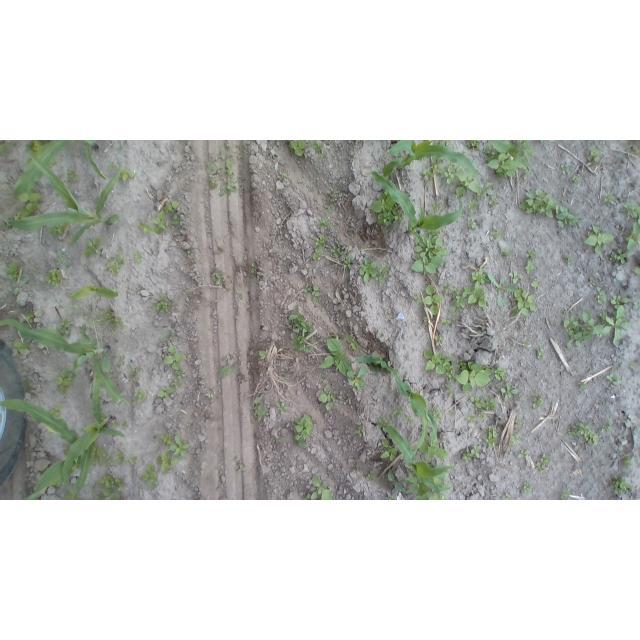Maize: (0, 319, 124, 423), (2, 150, 123, 246), (1, 398, 96, 499), (63, 379, 126, 498), (355, 357, 437, 440), (370, 170, 464, 240), (1, 141, 108, 200), (385, 425, 455, 492), (383, 141, 478, 185), (68, 287, 119, 301), (25, 488, 49, 501)
Weeds: (562, 306, 631, 349), (455, 358, 508, 390), (487, 140, 534, 176), (206, 146, 239, 194), (412, 230, 448, 274), (289, 304, 317, 354), (317, 338, 352, 377), (517, 186, 553, 219), (488, 273, 517, 308), (443, 282, 466, 324), (373, 195, 404, 226), (586, 225, 614, 255), (424, 349, 453, 377), (292, 412, 314, 448), (96, 309, 123, 336), (455, 172, 482, 199), (17, 193, 44, 219), (553, 203, 579, 230), (567, 423, 597, 445), (512, 289, 536, 315), (423, 285, 443, 316), (463, 284, 488, 308), (309, 475, 333, 499), (407, 477, 432, 500), (169, 435, 194, 457), (163, 346, 185, 370), (320, 387, 341, 412), (157, 452, 181, 473), (420, 442, 448, 460), (55, 370, 75, 395), (347, 367, 369, 389), (142, 463, 159, 490), (627, 220, 640, 254), (471, 395, 502, 409), (611, 476, 632, 496), (255, 397, 272, 421), (218, 366, 243, 382), (360, 260, 377, 283), (85, 238, 104, 258), (381, 440, 399, 461), (325, 187, 339, 213), (106, 255, 125, 274), (153, 294, 172, 313), (13, 278, 32, 297), (470, 269, 490, 287), (462, 445, 482, 463), (313, 236, 327, 261), (153, 210, 167, 234), (483, 425, 498, 447), (57, 250, 73, 270), (59, 319, 75, 339), (305, 284, 322, 302), (501, 383, 517, 402), (389, 470, 404, 490), (536, 454, 551, 473), (609, 249, 628, 264), (289, 140, 306, 156), (49, 269, 64, 287), (13, 341, 31, 356), (444, 164, 457, 184), (625, 202, 640, 219), (4, 261, 18, 279), (95, 490, 119, 500), (99, 476, 116, 490), (50, 226, 71, 237), (378, 264, 390, 283), (344, 334, 358, 350), (490, 196, 503, 213), (488, 227, 504, 240), (533, 392, 544, 410), (276, 403, 290, 417), (508, 271, 523, 284), (588, 149, 603, 162), (611, 296, 632, 305), (65, 170, 79, 183), (469, 218, 482, 232), (430, 406, 444, 419), (162, 201, 180, 211), (21, 378, 33, 393), (525, 261, 537, 276), (140, 223, 156, 234), (596, 288, 607, 304), (159, 388, 172, 401), (607, 372, 620, 385), (91, 447, 106, 458), (211, 272, 223, 285), (163, 433, 176, 445), (312, 140, 325, 152), (121, 169, 135, 180), (354, 422, 364, 437), (134, 390, 146, 402), (432, 203, 444, 215), (172, 379, 185, 390), (376, 418, 389, 429), (50, 406, 62, 417), (521, 484, 532, 496), (469, 199, 479, 212), (434, 477, 447, 487), (423, 167, 433, 180), (512, 432, 521, 446), (31, 141, 42, 152), (207, 389, 218, 400), (412, 294, 424, 304), (431, 162, 441, 174), (561, 165, 571, 177), (429, 493, 446, 500), (601, 422, 614, 431), (560, 492, 572, 501), (435, 335, 443, 348), (625, 455, 633, 468), (116, 357, 126, 367), (319, 377, 329, 387), (392, 406, 402, 416), (27, 313, 36, 324), (117, 451, 126, 462), (132, 366, 143, 375), (259, 348, 270, 357), (537, 348, 546, 359), (331, 250, 342, 259), (605, 193, 614, 204), (134, 251, 142, 263), (176, 369, 186, 378), (484, 182, 494, 191), (564, 253, 573, 263), (251, 263, 259, 274), (319, 216, 330, 224), (518, 451, 530, 458), (468, 141, 480, 148), (342, 259, 351, 268), (501, 248, 511, 256), (0, 142, 6, 154), (130, 456, 139, 464), (527, 250, 536, 258), (478, 410, 486, 419), (368, 469, 375, 479), (514, 420, 522, 428), (532, 279, 539, 288), (109, 162, 116, 170), (632, 303, 640, 310), (115, 479, 122, 486), (281, 173, 288, 180), (468, 415, 475, 422), (330, 333, 339, 338), (122, 421, 128, 428), (133, 377, 139, 384), (634, 268, 640, 275), (116, 487, 124, 492), (111, 421, 117, 427), (505, 493, 510, 500), (578, 382, 585, 387), (423, 317, 429, 322), (524, 341, 529, 347), (590, 277, 595, 283), (573, 175, 578, 181), (323, 151, 328, 157), (632, 364, 637, 369), (636, 149, 640, 153), (541, 141, 546, 144)
